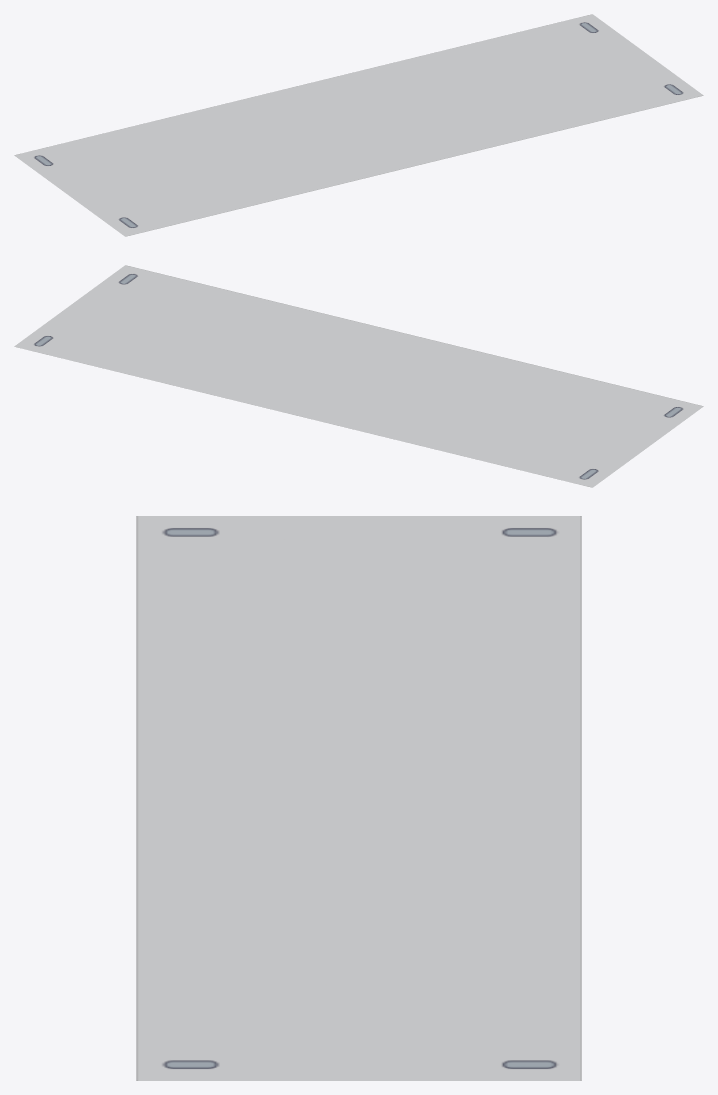
Rendered from Floor_Tinny_03_LP.FBX.
3 renders of one model, top to bottom at view 1: azimuth 30°, elevation 25°; view 2: azimuth 150°, elevation 25°; view 3: azimuth 270°, elevation 25°, orthographic. The views are drawn at different scales.
Parts seen in each view (by area): view 1: Floor_Tinny_03_LP; view 2: Floor_Tinny_03_LP; view 3: Floor_Tinny_03_LP.
Part boxes in pixels (box(x1,y1,x2,y2)): Floor_Tinny_03_LP: box(14, 14, 703, 236); Floor_Tinny_03_LP: box(14, 265, 703, 487); Floor_Tinny_03_LP: box(136, 516, 581, 1080).
Bounding box in the file's own units: 6 × 1.1e-06 × 2.
Materials: 1 (1 with a texture image).
